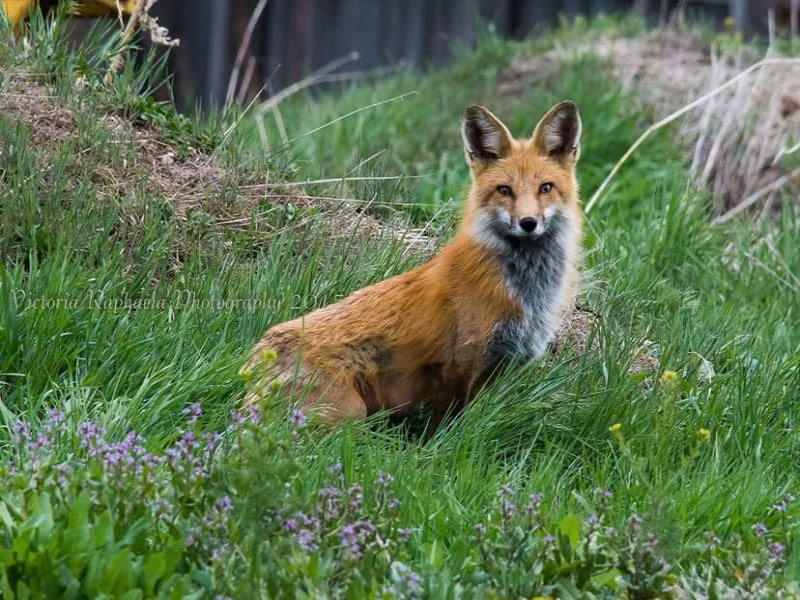fox: (236, 93, 591, 463)
